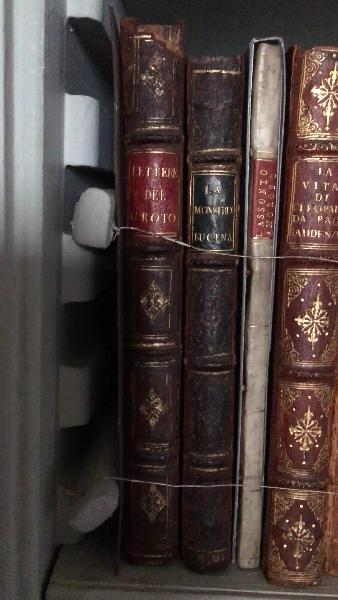Aa6-1: (112, 9, 181, 565)
Aa6-2: (178, 44, 242, 579)
Aa6-3: (234, 17, 285, 577)
Aa6-4: (265, 18, 338, 589)
